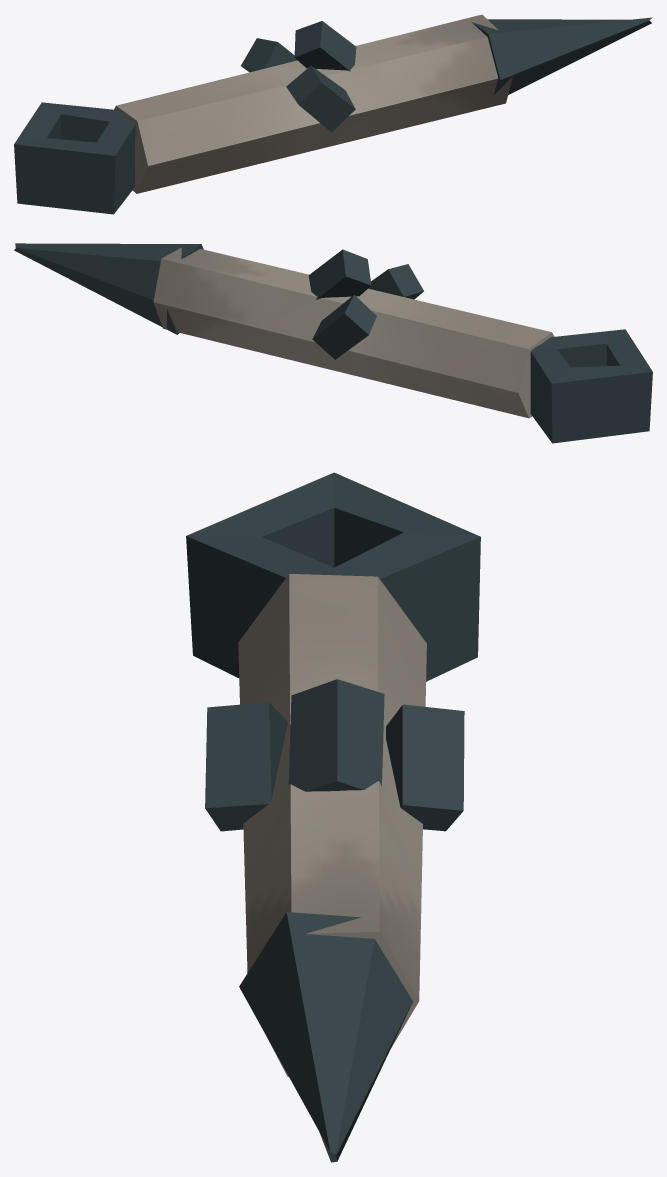
File: needle_geode.glb
The picture shows the model from 3 angles, top to bottom: view 1: azimuth 30°, elevation 25°; view 2: azimuth 150°, elevation 25°; view 3: azimuth 270°, elevation 25°; orthographic projection. The views are drawn at different scales.
Parts seen in each view (by area): view 1: NeedleGeode; view 2: NeedleGeode; view 3: NeedleGeode.
Boxes of the visible parts, bbox=[...] form: NeedleGeode: bbox=[14, 14, 652, 214]; NeedleGeode: bbox=[14, 243, 652, 443]; NeedleGeode: bbox=[186, 472, 480, 1162].
Size of the model in its own units: 0.34 by 0.0589 by 0.068.
Materials: 2 (1 with a texture image).
